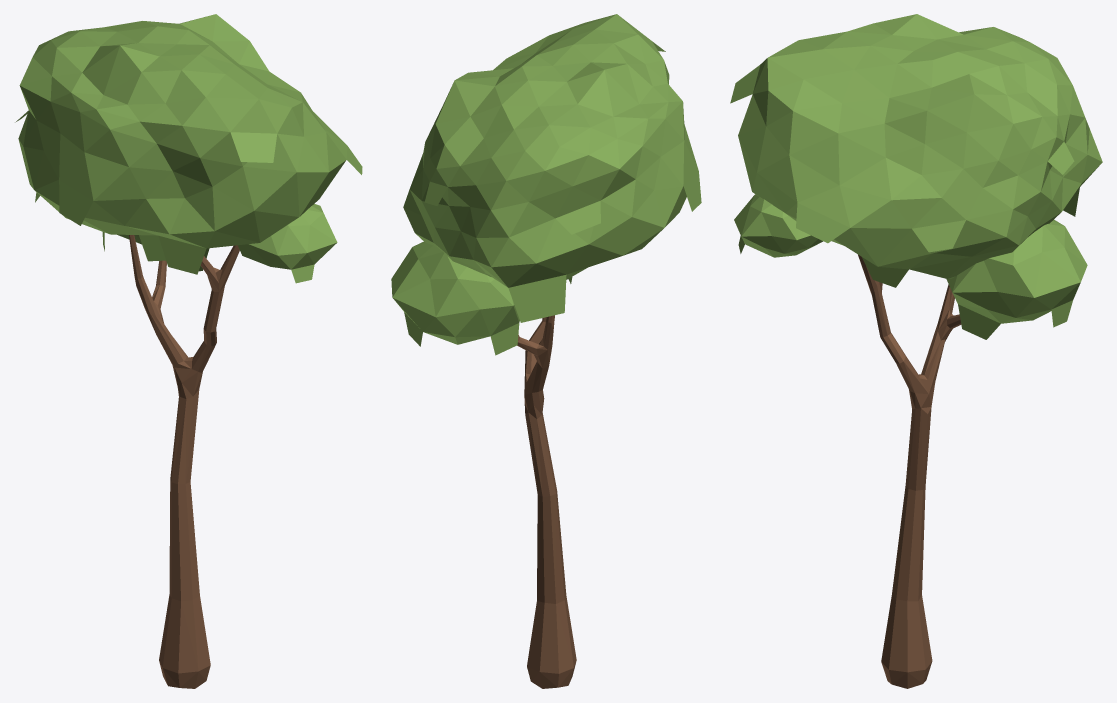
The model's file is Tree_2.fbx.
3 renders of one model, left to right at view 1: azimuth 30°, elevation 25°; view 2: azimuth 150°, elevation 25°; view 3: azimuth 270°, elevation 25°, orthographic. The views are drawn at different scales.
Visible parts, largest first — view 1: Tree_2; view 2: Tree_2; view 3: Tree_2.
Boxes of the visible parts, x1,y1,x2,y2 form: Tree_2: [15, 14, 362, 688]; Tree_2: [391, 14, 701, 688]; Tree_2: [730, 14, 1102, 688].
Size of the model in its own units: 195 by 446 by 234.
